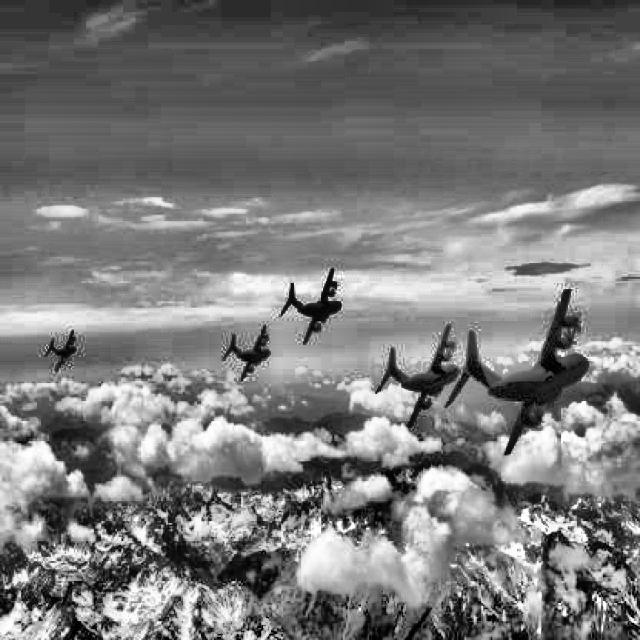A400M: (444, 289, 588, 456), (374, 324, 460, 428), (278, 268, 342, 344), (222, 324, 270, 382), (44, 330, 76, 372)
